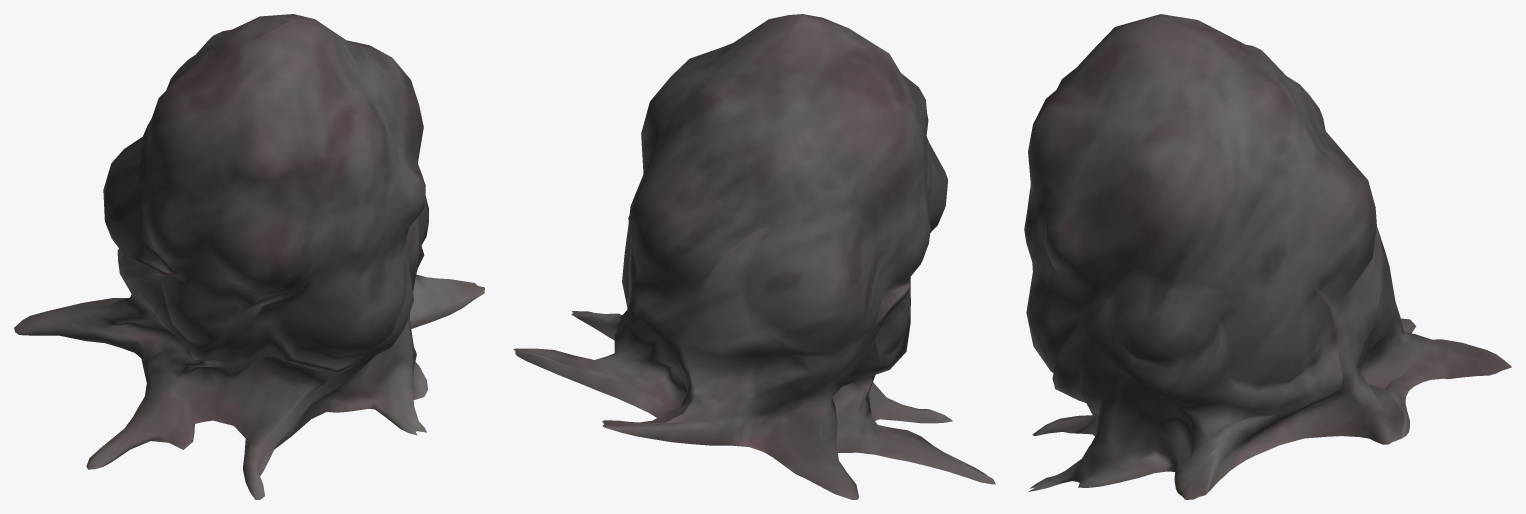
File: Cocoon (04).fbx
The picture shows the model from 3 angles, left to right: view 1: azimuth 30°, elevation 25°; view 2: azimuth 150°, elevation 25°; view 3: azimuth 270°, elevation 25°; orthographic projection. The views are drawn at different scales.
Parts seen in each view (by area): view 1: Egg; view 2: Egg; view 3: Egg.
Part boxes in pixels (x1,y1,x2,y2): Egg: (14,14,484,499); Egg: (513,14,995,499); Egg: (1024,14,1511,499).
Size of the model in its own units: 1.18 by 1.16 by 1.11.
1 material, 1 textured.
